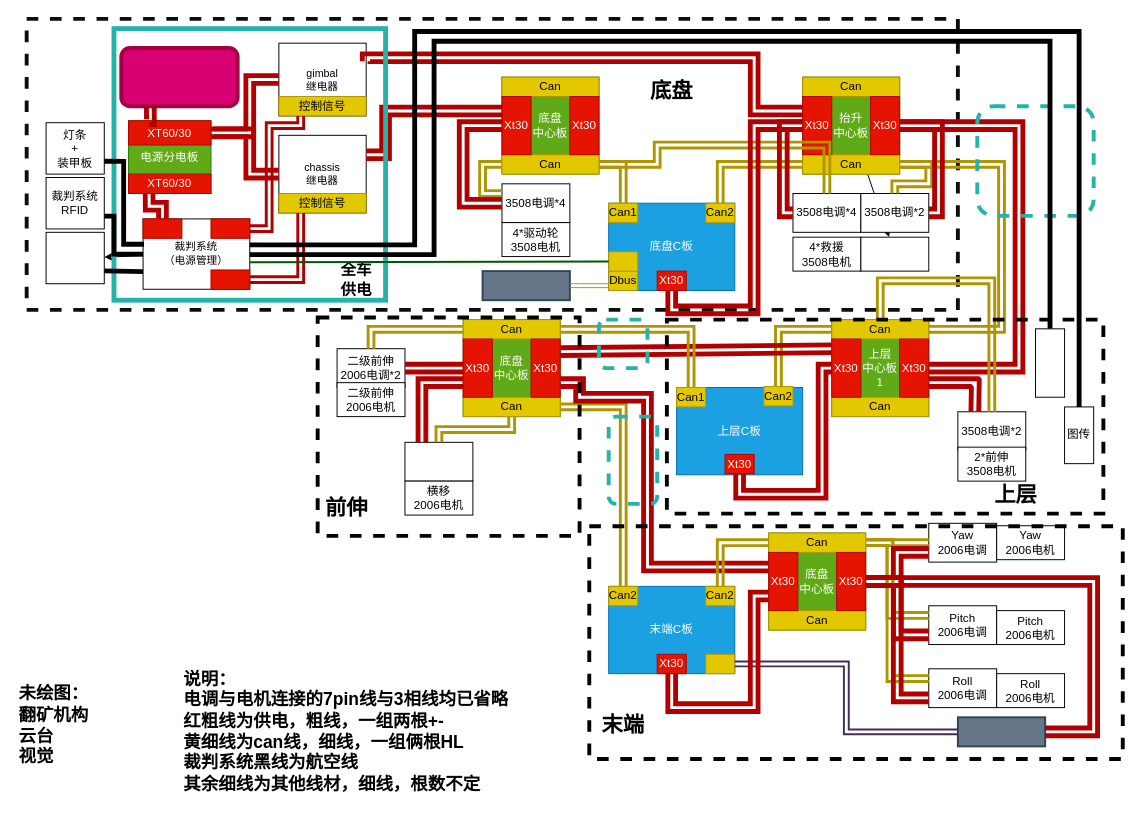
This 1141x820 diagram has some shape labels left out. Each missing label, with the centre of its shape:
"2*抬升 3508电机" belongs at (x=894, y=253).
"chassis" belongs at (x=230, y=228).
"dt7接收机" belongs at (x=525, y=285).
"gimbal" belongs at (x=230, y=279).
"GPIO" belongs at (x=720, y=663).
"串口" belongs at (x=623, y=261).
"供电" belongs at (x=162, y=228).
"前伸拖链" belongs at (x=623, y=343).
"双电并联" belongs at (x=179, y=77).
"吸盘继电器" belongs at (x=1001, y=731).
"场地定位" belongs at (x=1050, y=362).
"抬升拖链" belongs at (x=1035, y=160).
"横移 2006电调*1" belongs at (x=438, y=461).
"横移拖链" belongs at (x=632, y=459).
"裁判系统主控" belongs at (x=74, y=257).
